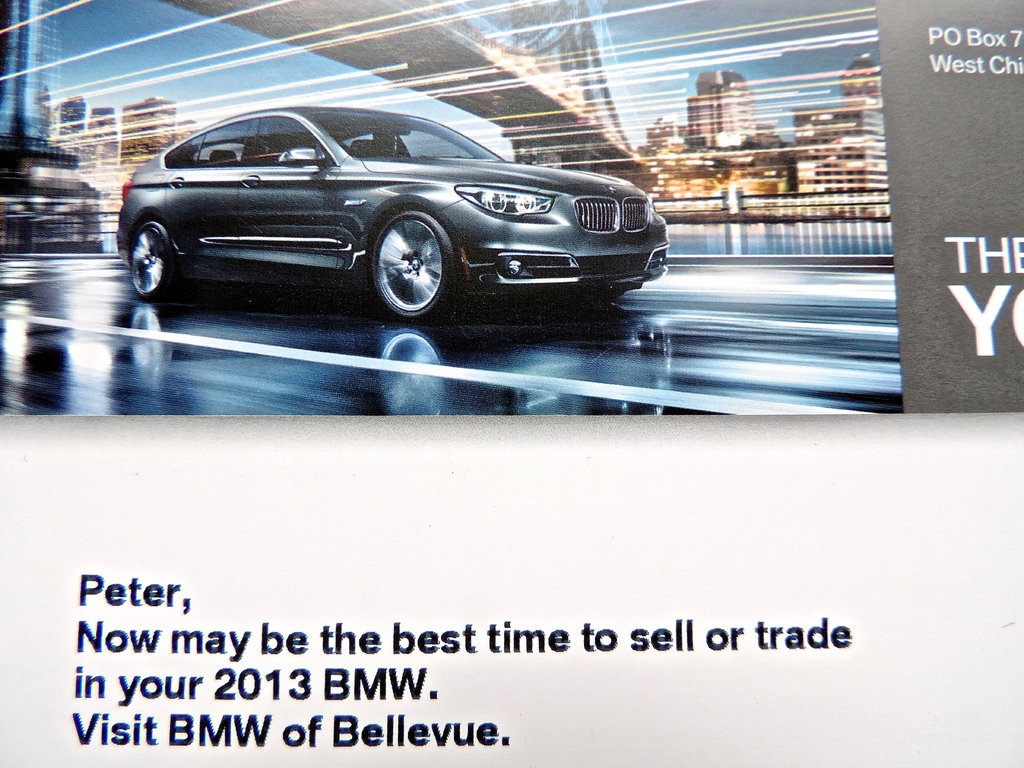Car: (110, 104, 668, 324)
